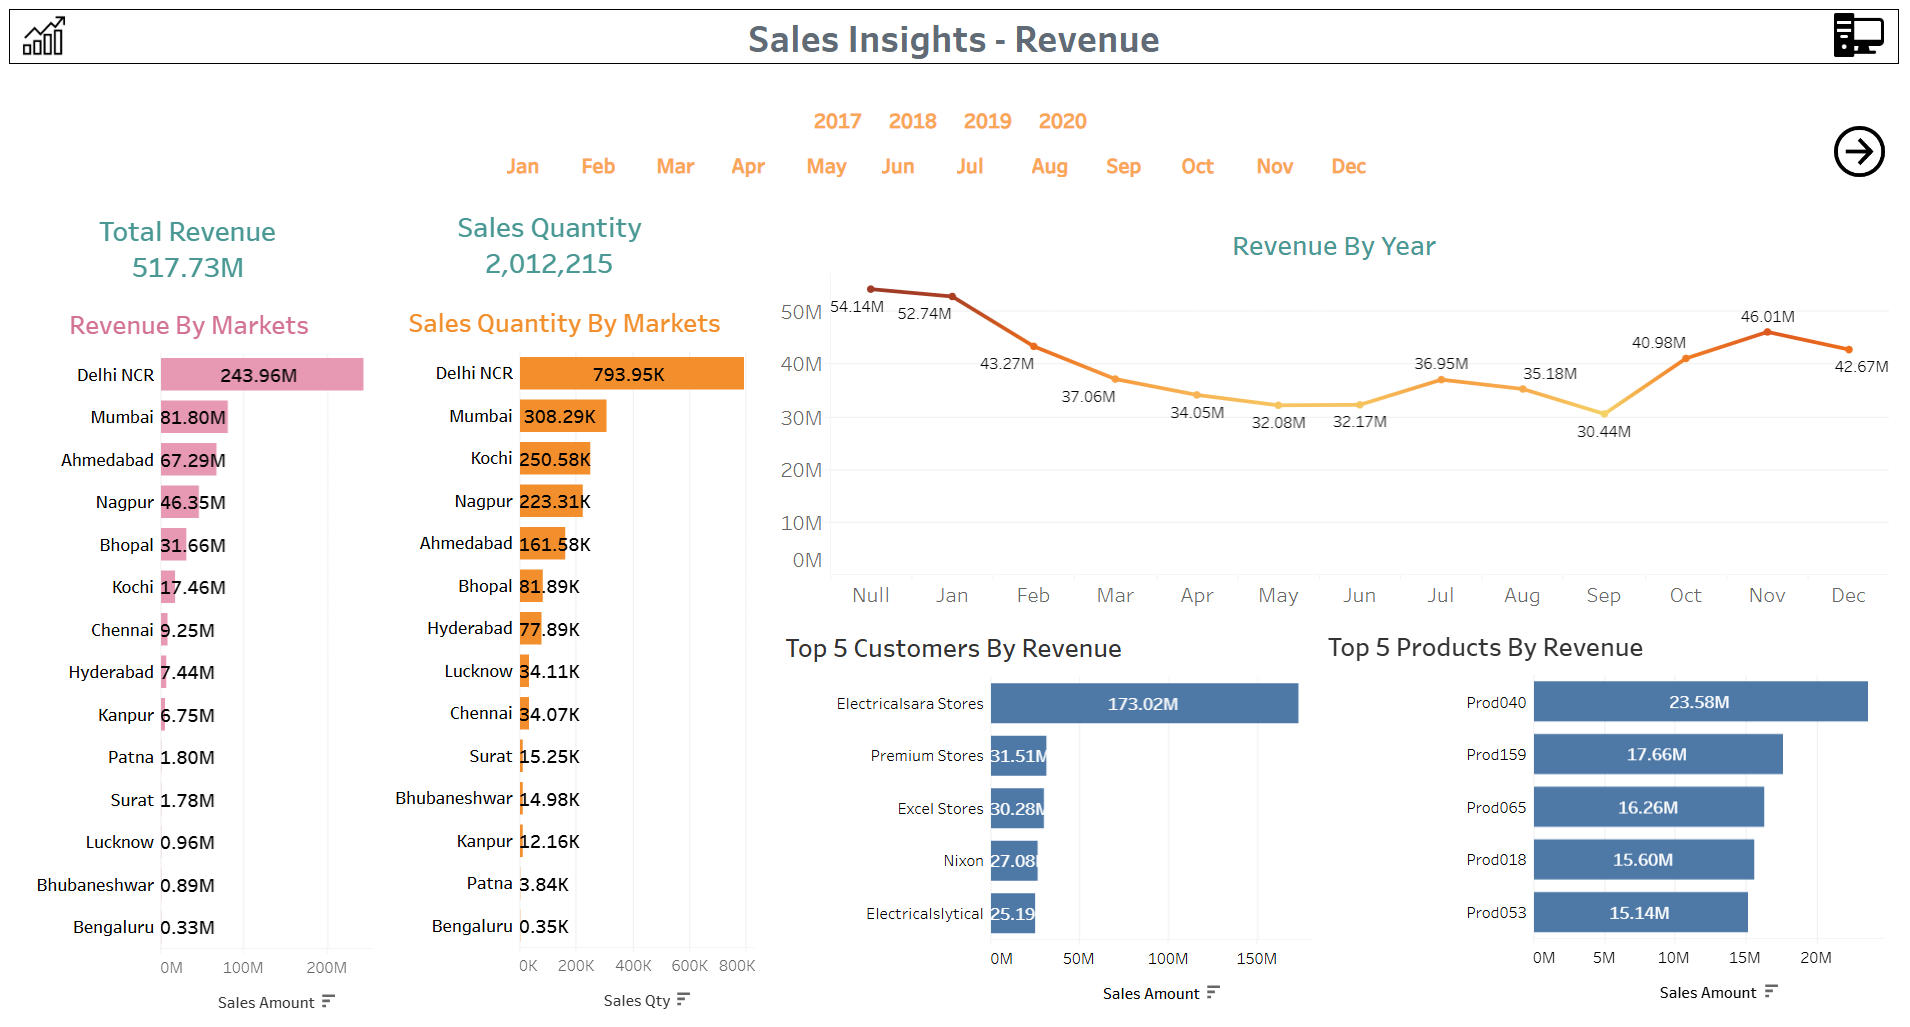

This screenshot's page, from the dashboard's own definition file:
{"tool":"tableau","page":{"name":"Dashboard - Revenue","canvas":[1000,1000],"units":"permille","ordinal":1},"visuals":[{"type":"title","box":[4.8,9.4,990.3,61.1]},{"type":"image","param":"Image/data-analysis-13.png","box":[12.7,14.1,33.2,50.5]},{"type":"image","param":"Image/2425969.png","box":[958.4,15.3,29,48.2]},{"type":"worksheet","title":"Year","mark":"Automatic","cols":["cy_date"],"box":[424.3,89.3,208.8,43.5]},{"type":"worksheet","title":"Month","mark":"Automatic","cols":["cy_date"],"box":[264.3,132.8,579.4,41.1]},{"type":"worksheet","title":"Sales Quantity","mark":"Automatic","box":[236.6,186.8,124.3,124.6]},{"type":"worksheet","title":"Revenue","mark":"Automatic","box":[48,189.9,125.7,134.2]},{"type":"worksheet","title":"Revenue By Year","mark":"Automatic","rows":["Calculation_4639833578761936896"],"cols":["cy_date"],"box":[409,214.3,578.1,372.8]},{"type":"worksheet","title":"Sales Quantity By Markets","mark":"Automatic","rows":["markets_name"],"cols":["sales_qty"],"box":[198,290.2,198.6,698]},{"type":"worksheet","title":"Revenue By Markets","mark":"Automatic","rows":["markets_name"],"cols":["Calculation_4639833578761936896"],"box":[6,291.4,191.9,696.8]},{"type":"worksheet","title":"Top 5 Products","mark":"Automatic","rows":["product_code"],"cols":["Calculation_4639833578761936896"],"box":[692.2,599.3,292.1,387.8]},{"type":"worksheet","title":"Top 5 Customers","mark":"Automatic","rows":["custmer_name"],"cols":["Calculation_4639833578761936896"],"box":[409.8,600.5,277,388.9]}]}

Visuals, with their boxes on the dashboard's canvas, which has no fixed pixel size, in thousandths of its width and height (x1, y1, x2, y2). These are canvas units, not pixel positions in the 1910x1027 screenshot, which may show the page scaled, cropped or inside an application window:
title: <box>5,9,995,70</box>
image: <box>13,14,46,65</box>
image: <box>958,15,987,64</box>
"Year" worksheet: <box>424,89,633,133</box>
"Month" worksheet: <box>264,133,844,174</box>
"Sales Quantity" worksheet: <box>237,187,361,311</box>
"Revenue" worksheet: <box>48,190,174,324</box>
"Revenue By Year" worksheet: <box>409,214,987,587</box>
"Sales Quantity By Markets" worksheet: <box>198,290,397,988</box>
"Revenue By Markets" worksheet: <box>6,291,198,988</box>
"Top 5 Products" worksheet: <box>692,599,984,987</box>
"Top 5 Customers" worksheet: <box>410,600,687,989</box>
